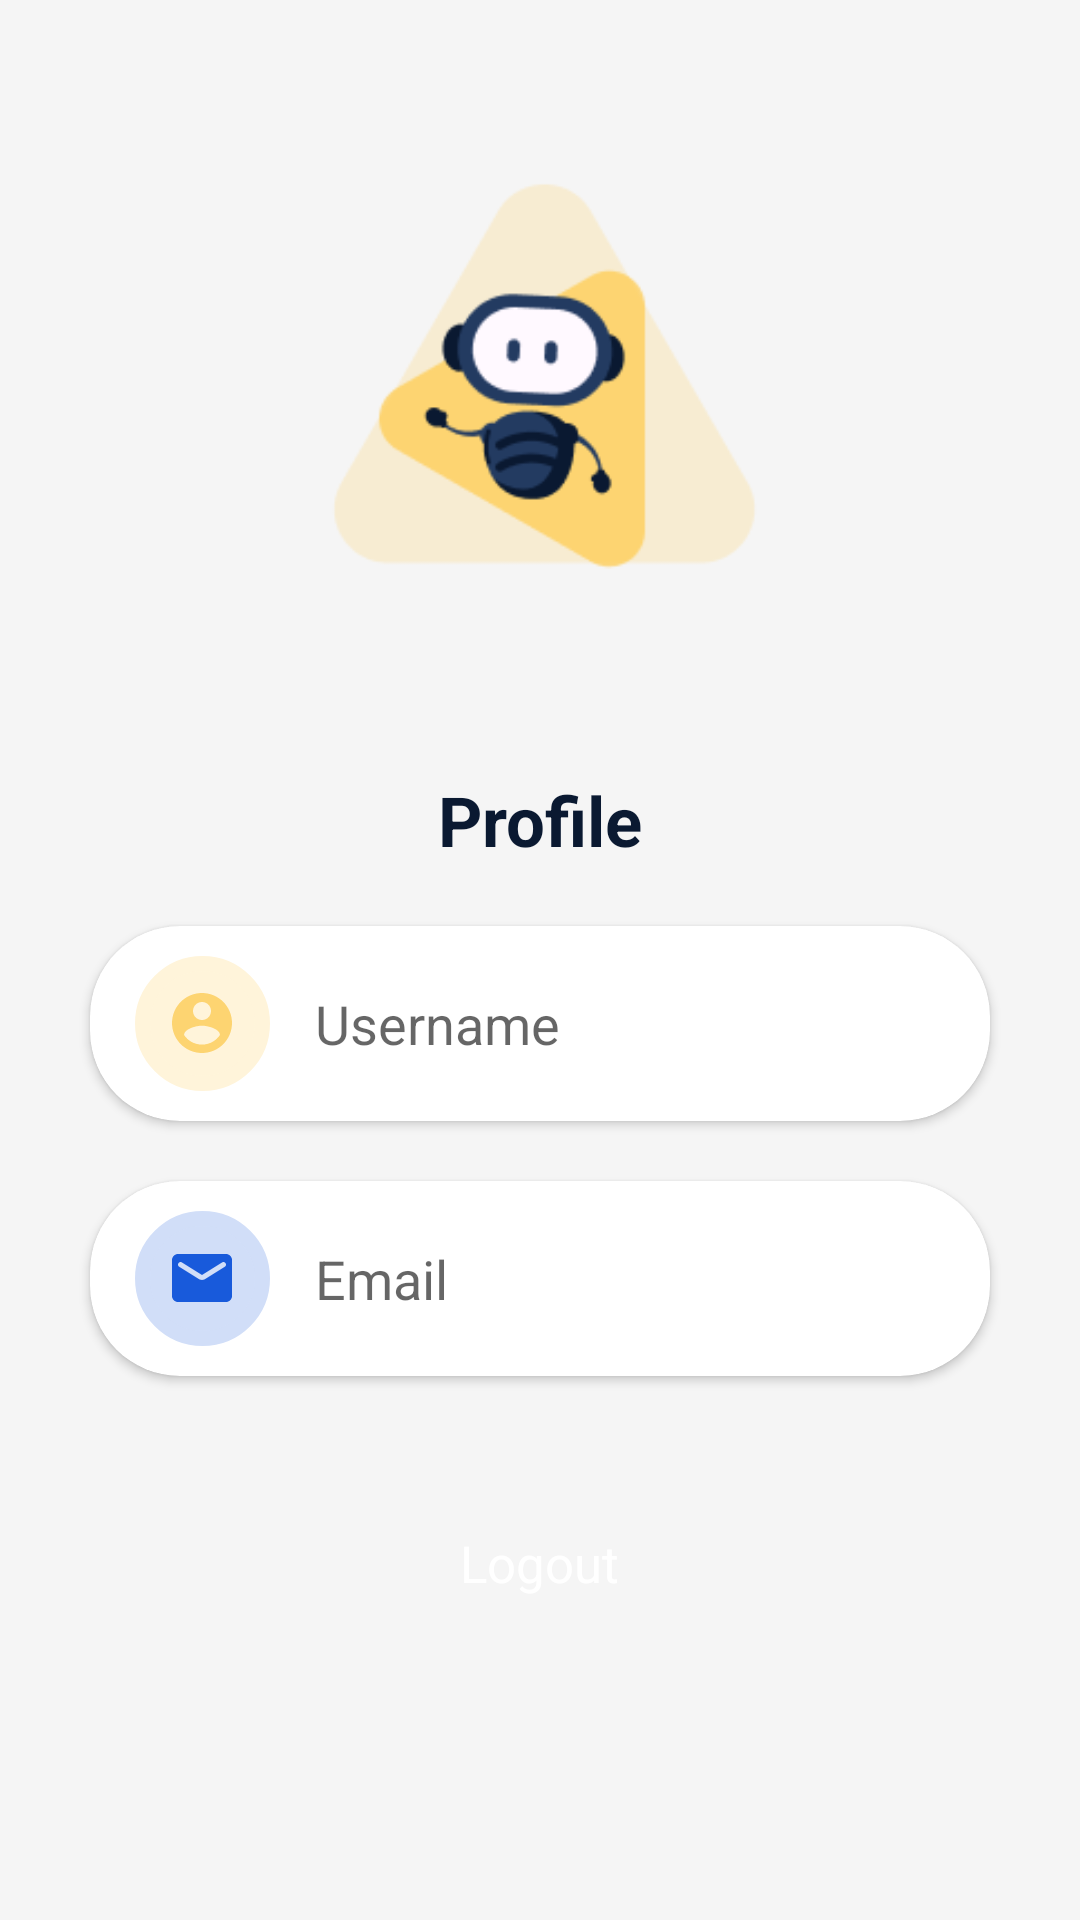

Where icons sit on this 1080 × 1920 app screen, as box(x1, y1, x2, y2):
account: box(172, 993, 232, 1053)
